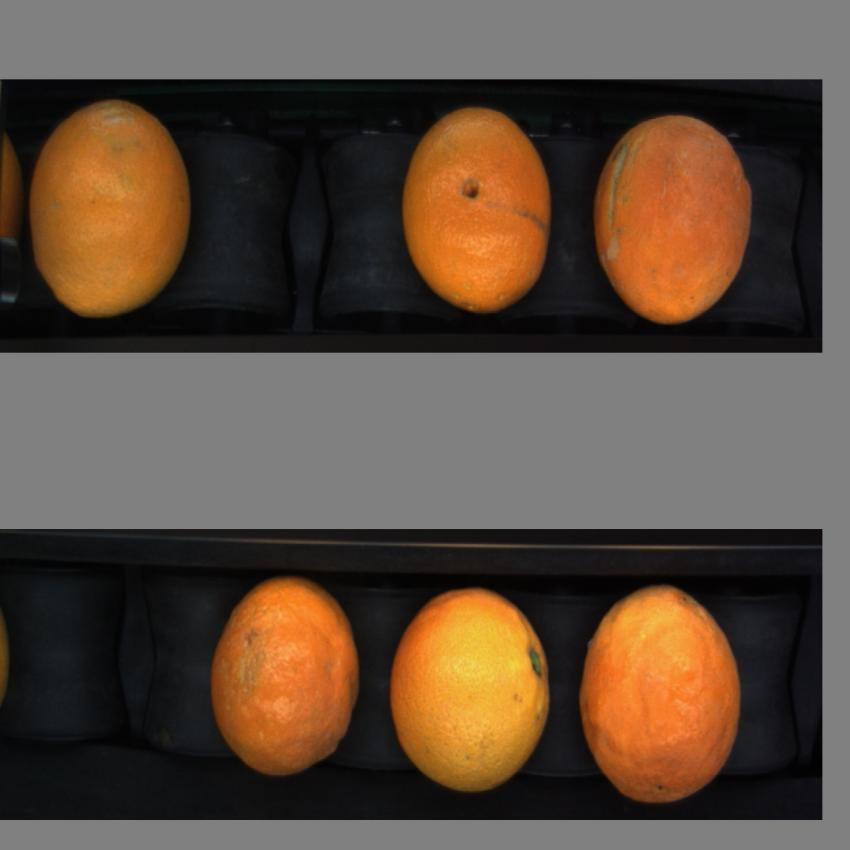Buen estado: (397, 88, 562, 324), (27, 92, 194, 322), (386, 578, 559, 792)
Mal estado: (579, 579, 749, 805), (591, 108, 757, 329), (208, 571, 366, 784)
